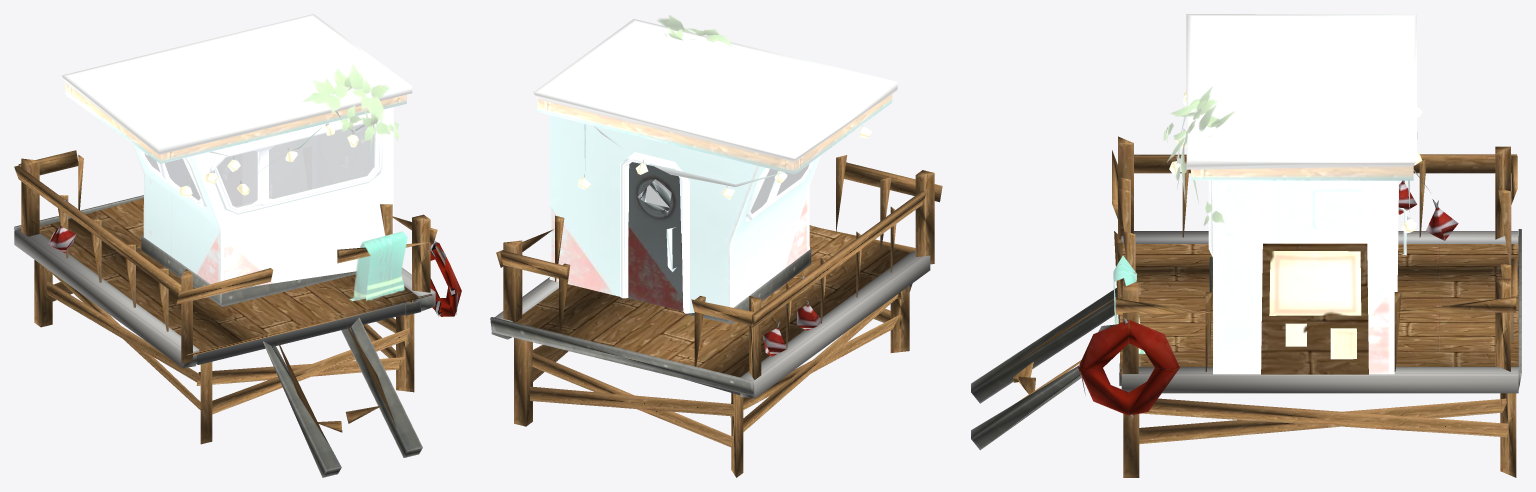
File: lifeguard-tower.lod1.glb
3 renders of one model, left to right at view 1: azimuth 30°, elevation 25°; view 2: azimuth 150°, elevation 25°; view 3: azimuth 270°, elevation 25°, orthographic. The views are drawn at different scales.
Parts seen in each view (by area): view 1: Object_2, Object_3; view 2: Object_2, Object_3; view 3: Object_3, Object_2.
Boxes of the visible parts, bbox=[...] form: Object_2: bbox=[62, 14, 412, 301]; Object_3: bbox=[14, 150, 461, 477]; Object_2: bbox=[533, 15, 897, 313]; Object_3: bbox=[490, 155, 942, 477]; Object_3: bbox=[971, 136, 1521, 477]; Object_2: bbox=[1113, 14, 1422, 374].
Bounding box in the file's own units: 4.33 × 4.6 × 6.28.
2 materials, 2 textured.
